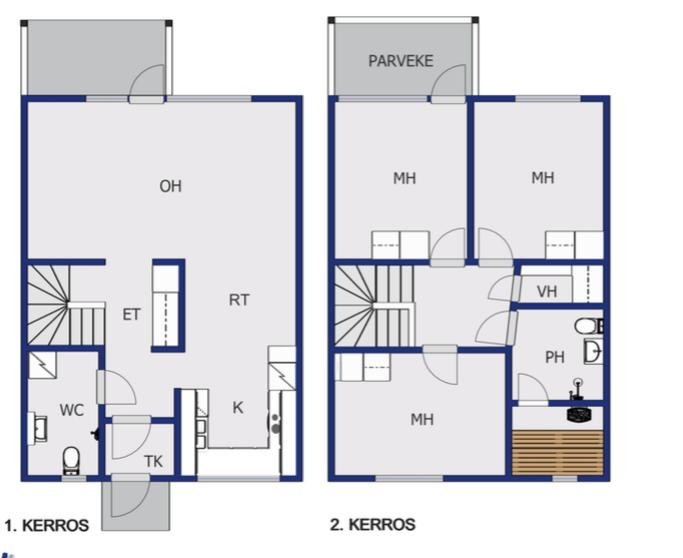bathroom: (27, 351, 99, 475), (508, 309, 604, 400)
door: (109, 470, 152, 522), (109, 410, 152, 459), (92, 366, 140, 408), (473, 306, 521, 348), (427, 62, 470, 108), (419, 342, 461, 389), (425, 225, 469, 269), (475, 226, 518, 271), (125, 64, 168, 106), (515, 372, 552, 409), (484, 272, 525, 303)
perimeter: (328, 92, 610, 484), (20, 94, 303, 482)
stairs: (25, 263, 68, 344), (25, 303, 106, 346), (335, 265, 414, 306), (335, 306, 411, 346)
window: (191, 473, 285, 488), (508, 91, 589, 108), (163, 92, 254, 106), (367, 472, 451, 486), (335, 94, 432, 106), (82, 93, 131, 107), (546, 470, 584, 487), (55, 471, 90, 486)
